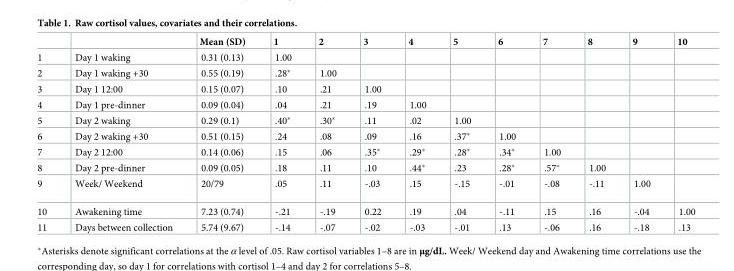table: (36, 36, 694, 232)
table column: (60, 36, 185, 232), (185, 36, 258, 232), (258, 36, 304, 232), (304, 36, 349, 232), (349, 36, 394, 232), (438, 36, 483, 232), (483, 36, 528, 232), (528, 36, 573, 232), (573, 36, 618, 232), (618, 36, 663, 232), (394, 36, 438, 232), (663, 36, 694, 232), (36, 36, 60, 232)
table column header: (36, 36, 694, 49)
table row: (36, 175, 694, 197), (36, 197, 694, 219), (36, 64, 694, 81), (36, 111, 694, 127), (36, 127, 694, 143), (36, 143, 694, 159), (36, 159, 694, 175), (36, 49, 694, 64), (36, 81, 694, 96), (36, 96, 694, 111), (36, 36, 694, 49), (36, 219, 694, 232)
